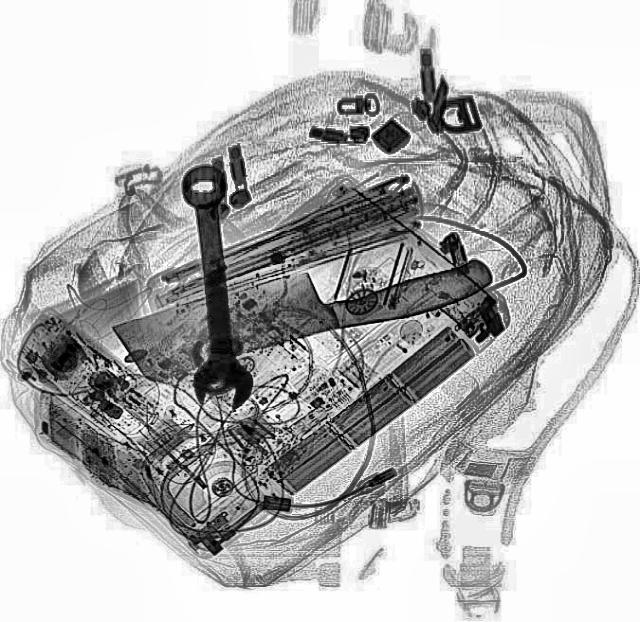Knife: (110, 218, 497, 396)
Wrench: (180, 161, 254, 412)
